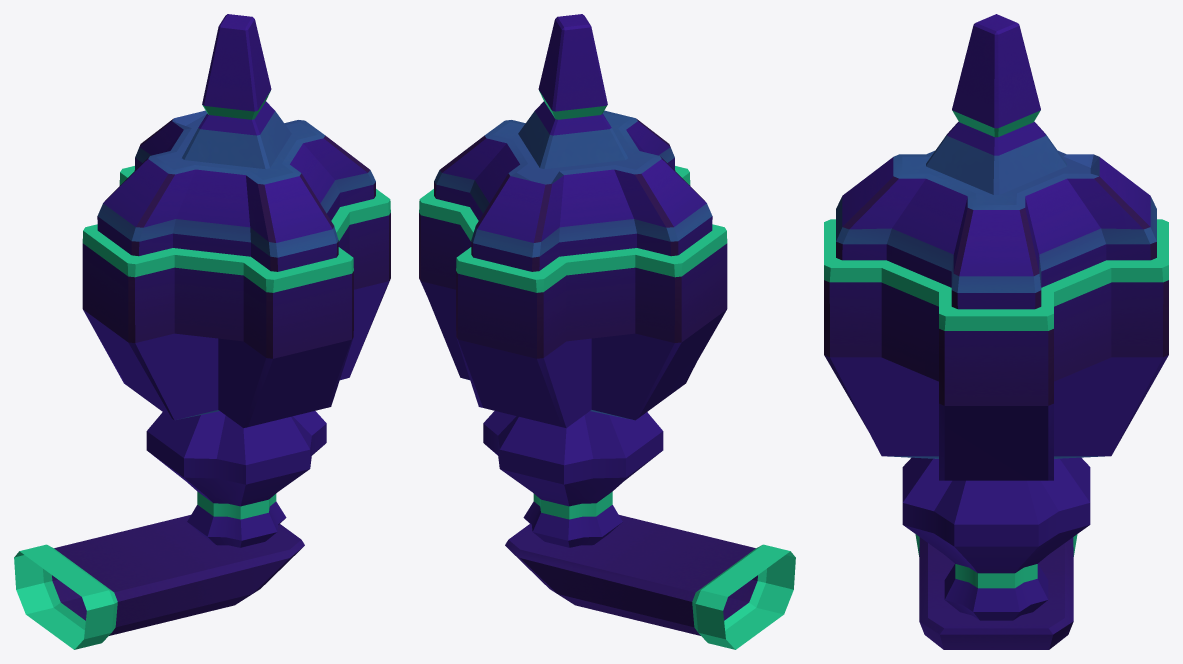
File: Tower_wall_attachment.fbx
The picture shows the model from 3 angles, left to right: view 1: azimuth 30°, elevation 25°; view 2: azimuth 150°, elevation 25°; view 3: azimuth 270°, elevation 25°; orthographic projection. The views are drawn at different scales.
Visible parts, largest first — view 1: Top2; view 2: Top2; view 3: Top2.
Part boxes in pixels (left/top/right/bottom): Top2: left=14, top=14, right=390, bottom=649; Top2: left=419, top=14, right=795, bottom=649; Top2: left=824, top=14, right=1168, bottom=649.
Bounding box in the file's own units: 376 × 640 × 311.
